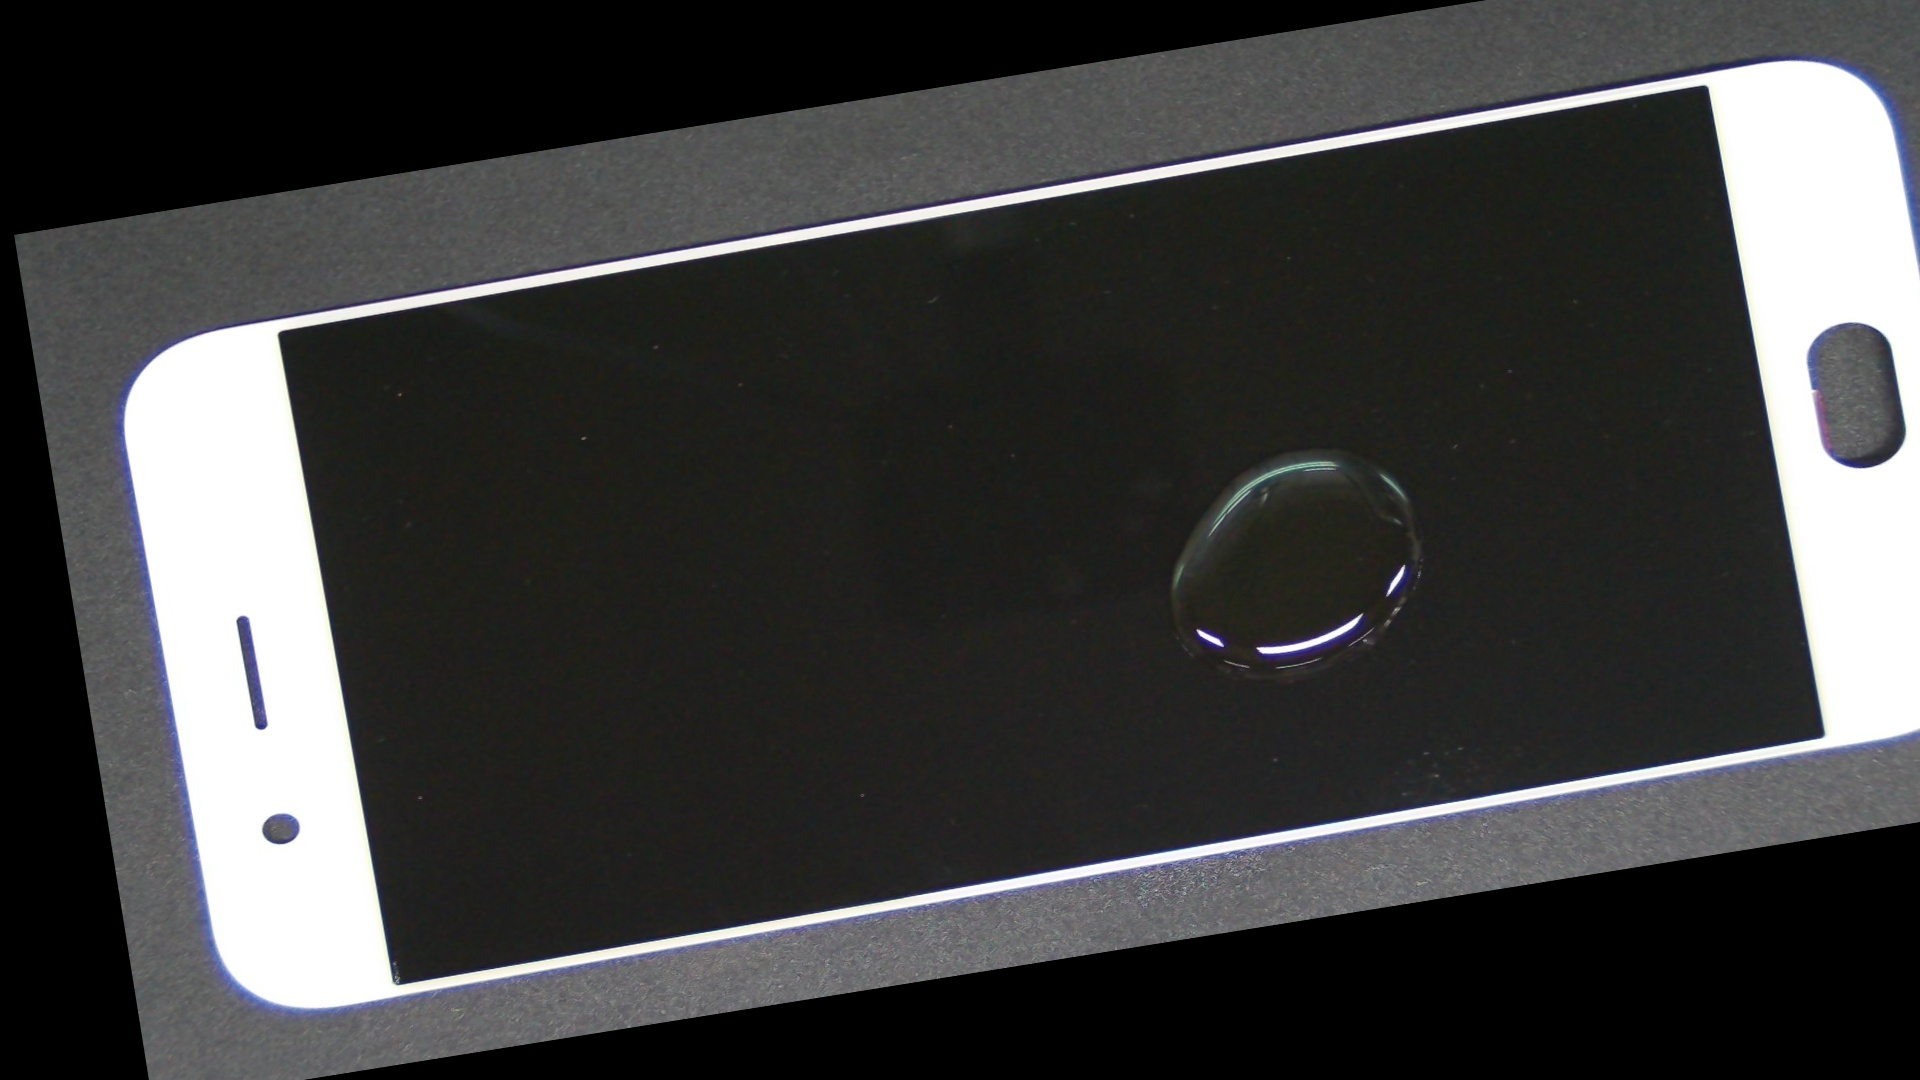oil: (657, 148, 1920, 752)
